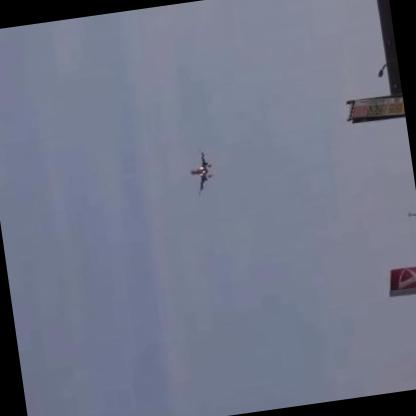plane: (186, 148, 216, 196)
